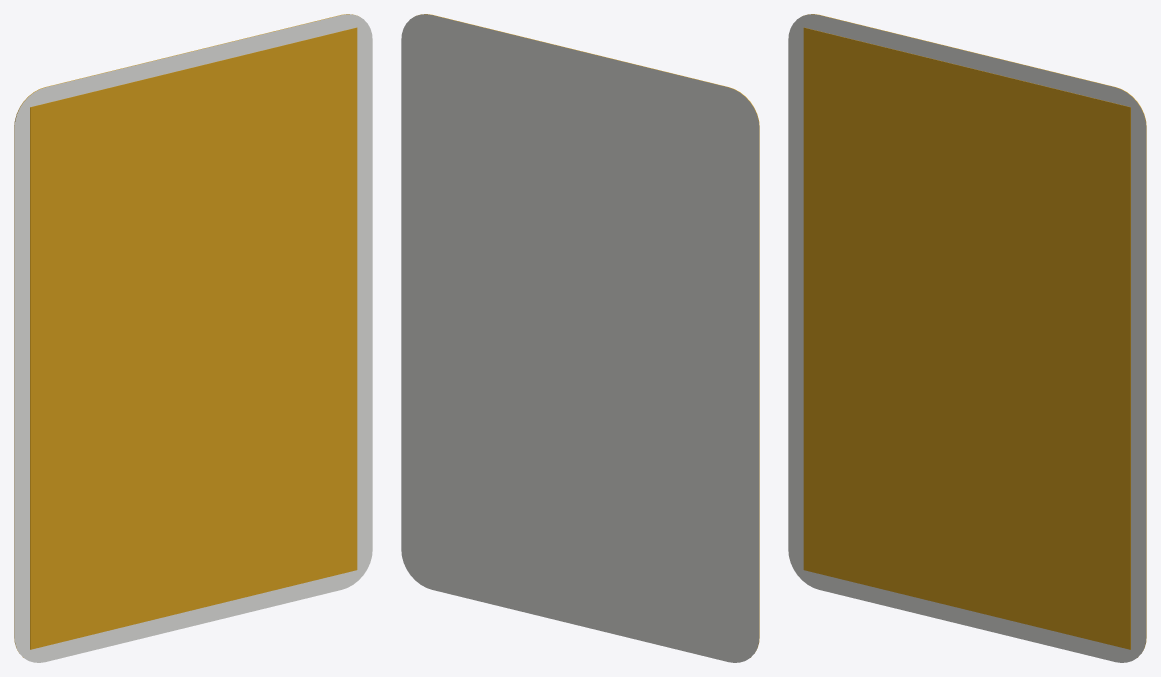
File: Tanuki v1.fbx
The picture shows the model from 3 angles, left to right: view 1: azimuth 30°, elevation 25°; view 2: azimuth 150°, elevation 25°; view 3: azimuth 330°, elevation 25°; orthographic projection.
Parts seen in each view (by area): view 1: Body1; view 2: Body1; view 3: Body1.
Boxes of the visible parts, x1,y1,x2,y2 form: Body1: (14, 14, 372, 662); Body1: (401, 14, 759, 662); Body1: (788, 14, 1146, 662).
Size of the model in its own units: 580 by 890 by 1.5.
